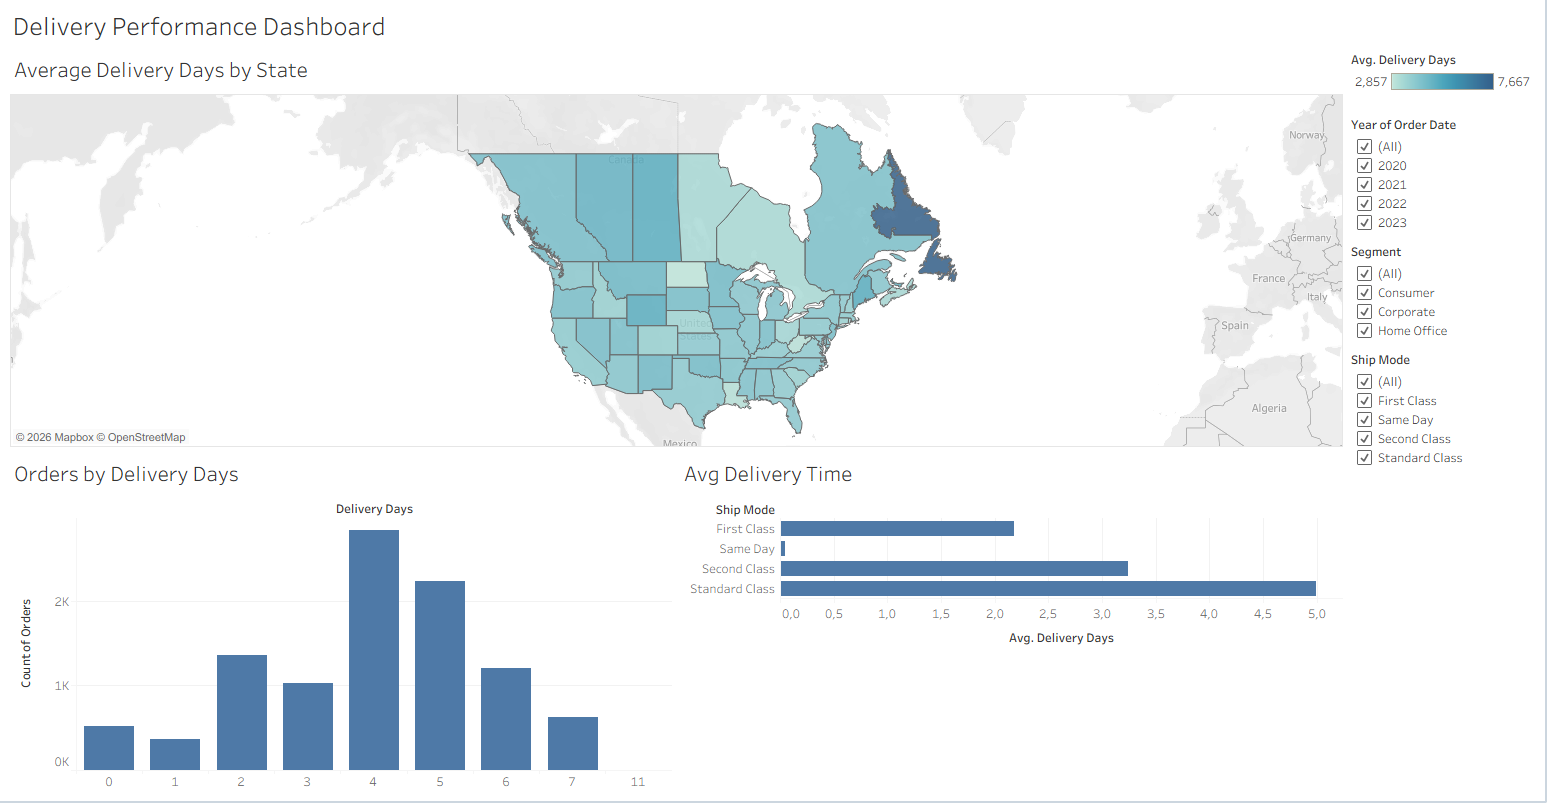

The dashboard page shown, as its layout file describes it:
{"tool":"tableau","page":{"name":"Delivery Performance Dashboard","canvas":[1000,1000],"units":"permille","ordinal":0},"visuals":[{"type":"title","box":[5,9.9,989.9,52.1]},{"type":"worksheet","title":"Average Delivery Days by State","mark":"Automatic","box":[5,62,869.1,501.6]},{"type":"legend","title":"Average Delivery Days by State","param":"[federated.1qjv5oa0d960fx1f5jfm61tz44eb].[avg:Calculation_1727365848600577:qk]","box":[874.1,62,120.8,80.7]},{"type":"filter","title":"Avg Delivery Time","param":"[federated.1qjv5oa0d960fx1f5jfm61tz44eb].[yr:Order Date:ok]","box":[874.1,142.7,120.8,157.6]},{"type":"filter","title":"Avg Delivery Time","param":"[federated.1qjv5oa0d960fx1f5jfm61tz44eb].[none:Segment:nk]","box":[874.1,300.3,120.8,134]},{"type":"filter","title":"Avg Delivery Time","param":"[federated.1qjv5oa0d960fx1f5jfm61tz44eb].[none:Ship Mode:nk]","box":[874.1,434.3,120.8,157.6]},{"type":"worksheet","title":"Orders by Delivery Days","mark":"Automatic","rows":["Order ID"],"cols":["Calculation_1727365848600577"],"box":[5,563.6,434.5,426.4]},{"type":"worksheet","title":"Avg Delivery Time","mark":"Automatic","rows":["Ship Mode"],"cols":["Calculation_1727365848600577"],"box":[439.6,563.6,434.6,426.4]}]}

Visuals, with their boxes on the dashboard's canvas, which has no fixed pixel size, in thousandths of its width and height (x1, y1, x2, y2). These are canvas units, not pixel positions in the 1547x803 screenshot, which may show the page scaled, cropped or inside an application window:
title: {"x1": 5, "y1": 10, "x2": 995, "y2": 62}
"Average Delivery Days by State" worksheet: {"x1": 5, "y1": 62, "x2": 874, "y2": 564}
"Average Delivery Days by State" legend: {"x1": 874, "y1": 62, "x2": 995, "y2": 143}
"Avg Delivery Time" filter: {"x1": 874, "y1": 143, "x2": 995, "y2": 300}
"Avg Delivery Time" filter: {"x1": 874, "y1": 300, "x2": 995, "y2": 434}
"Avg Delivery Time" filter: {"x1": 874, "y1": 434, "x2": 995, "y2": 592}
"Orders by Delivery Days" worksheet: {"x1": 5, "y1": 564, "x2": 440, "y2": 990}
"Avg Delivery Time" worksheet: {"x1": 440, "y1": 564, "x2": 874, "y2": 990}
